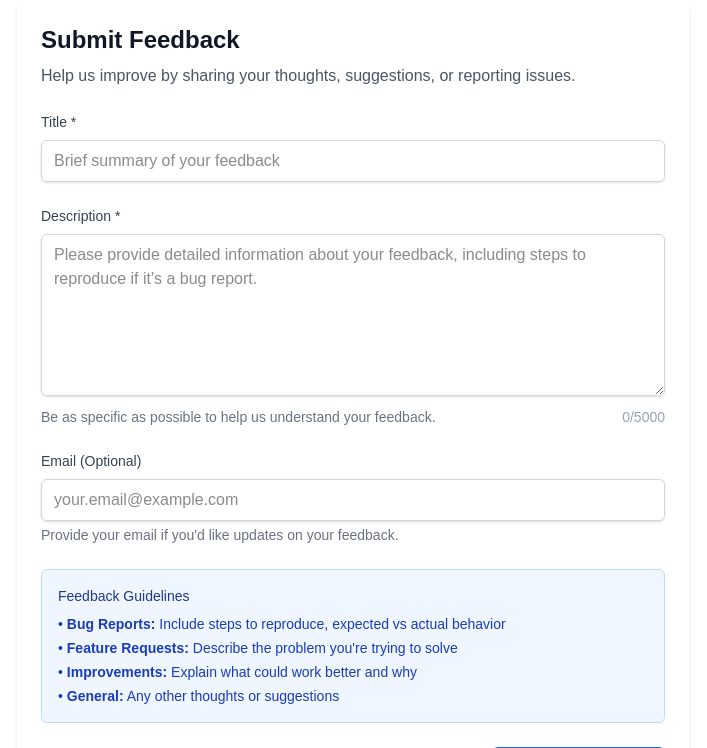
Test: FeedbackForm › shows character count for description
The image size is (707, 748).
Expected: the text "0/5000" is shown, x1=622 y1=407 x2=665 y2=427
In the text box labelled "Description *": point(353, 315) x1=41 y1=234 x2=665 y2=396, type "Test description"
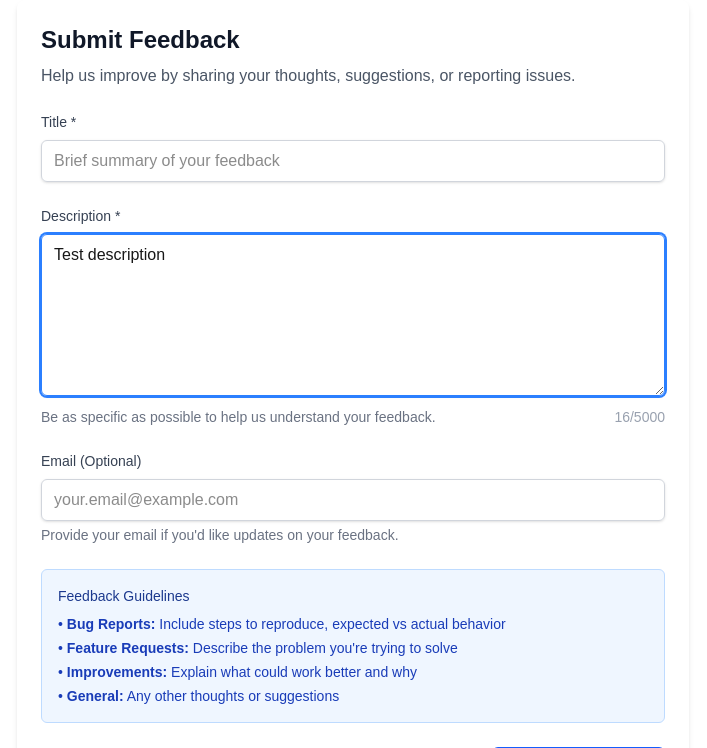
Expected: the text "16/5000" is shown, x1=614 y1=407 x2=665 y2=427
